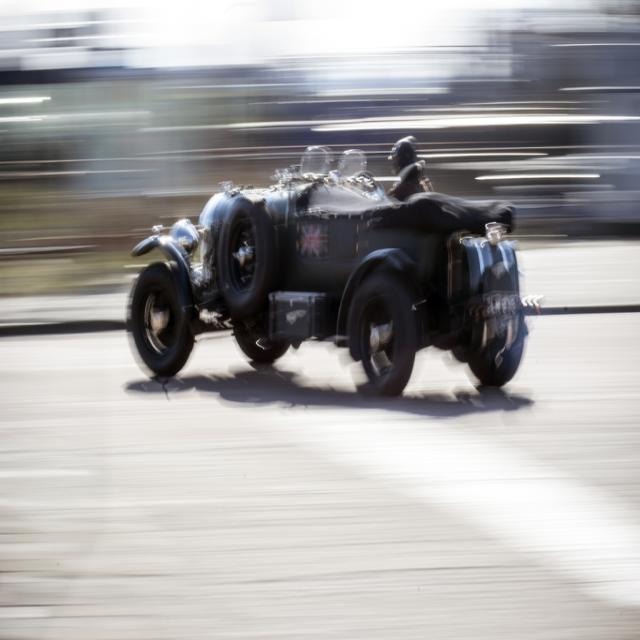car: (124, 145, 532, 405)
